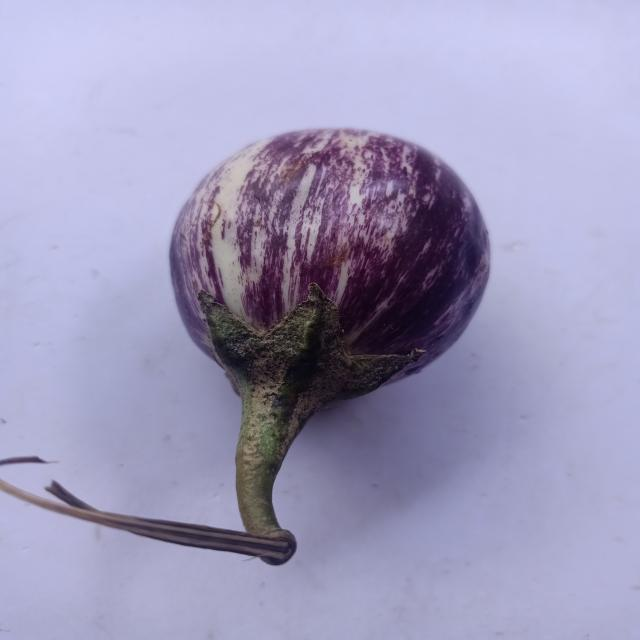Eggplant: (5, 105, 504, 564)
